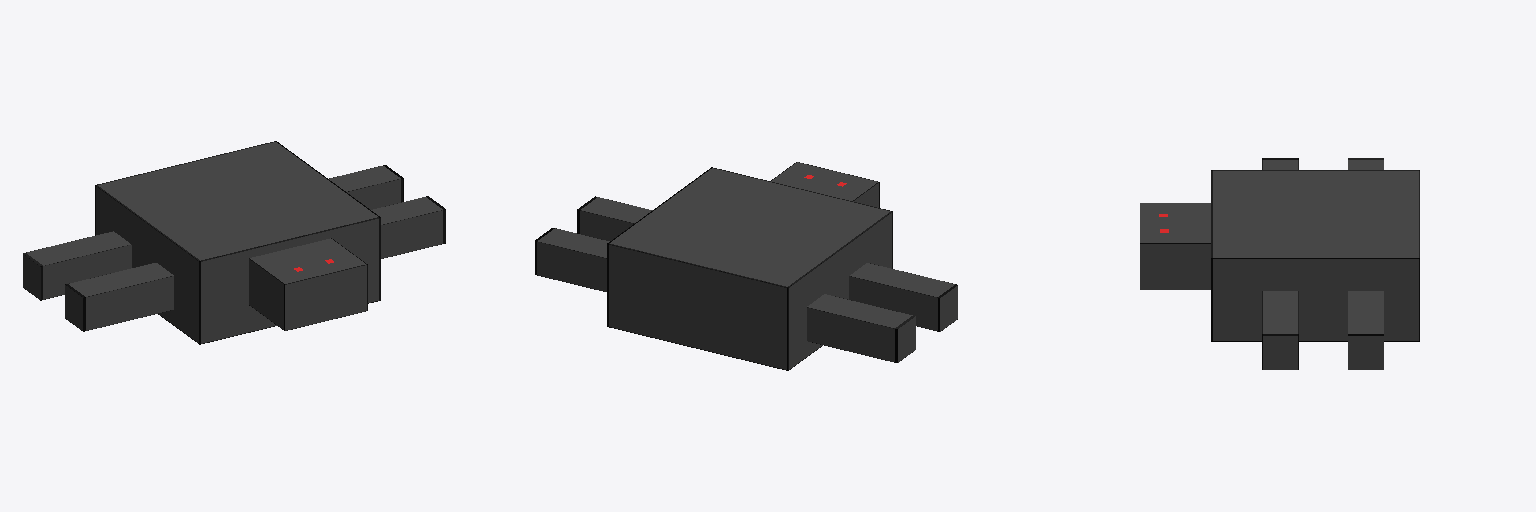
The picture shows the model from 3 angles: view 1: azimuth 30°, elevation 25°; view 2: azimuth 150°, elevation 25°; view 3: azimuth 270°, elevation 25°; orthographic projection.
Parts seen in each view (by area): view 1: Cube.002; view 2: Cube.002; view 3: Cube.002.
Boxes of the visible parts, x1=… form: Cube.002: x1=23, y1=141, x2=445, y2=344; Cube.002: x1=535, y1=162, x2=957, y2=370; Cube.002: x1=1140, y1=158, x2=1419, y2=369.
Bounding box in the file's own units: 4.01 × 0.88 × 2.69.
1 materials, 1 textured.